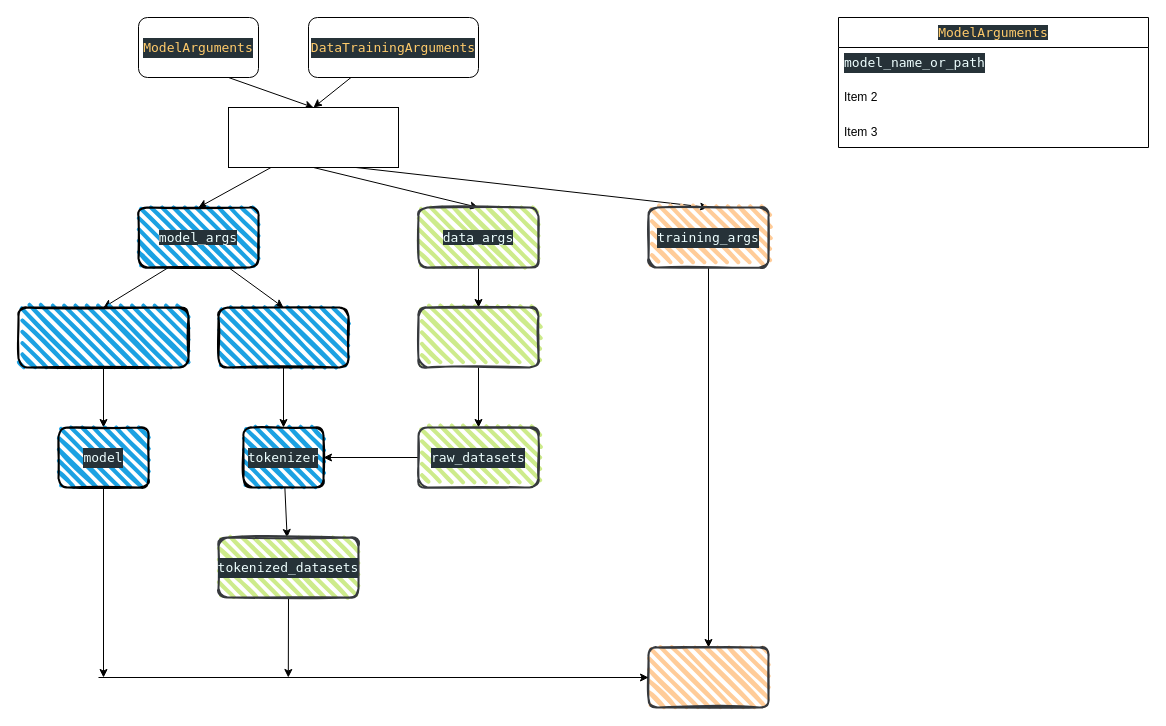
Image size: 1166x726. Some labels were removed from this diagram. The centre of each missing label's shape, as x and y in pixels:
"AutoModelForCausalLM" goes at (x=103, y=337).
"AutoTokenizer" goes at (x=283, y=337).
"HfArgumentParser" goes at (x=313, y=137).
"load_dataset" goes at (x=478, y=337).
"Trainer" goes at (x=708, y=677).
